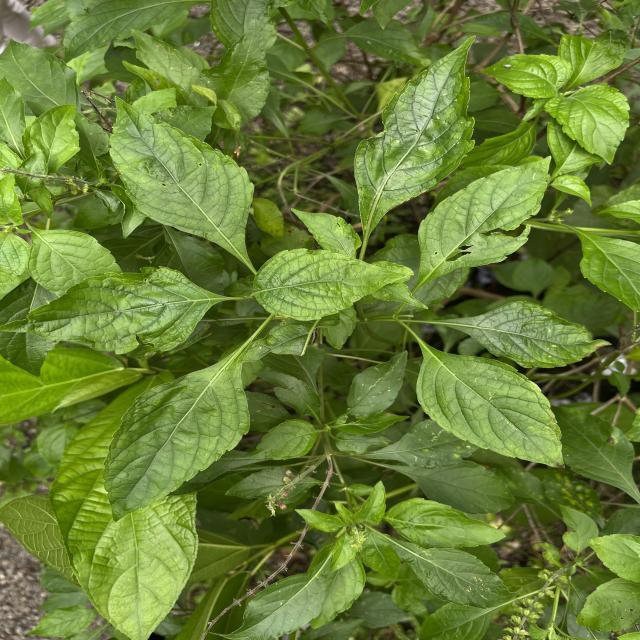Ocimum gratissimum: (100, 338, 252, 524), (105, 91, 260, 273), (350, 32, 478, 246), (413, 330, 568, 472), (0, 264, 223, 358), (415, 154, 555, 292), (418, 298, 616, 370), (250, 246, 408, 324), (376, 533, 526, 612), (380, 494, 510, 550)
